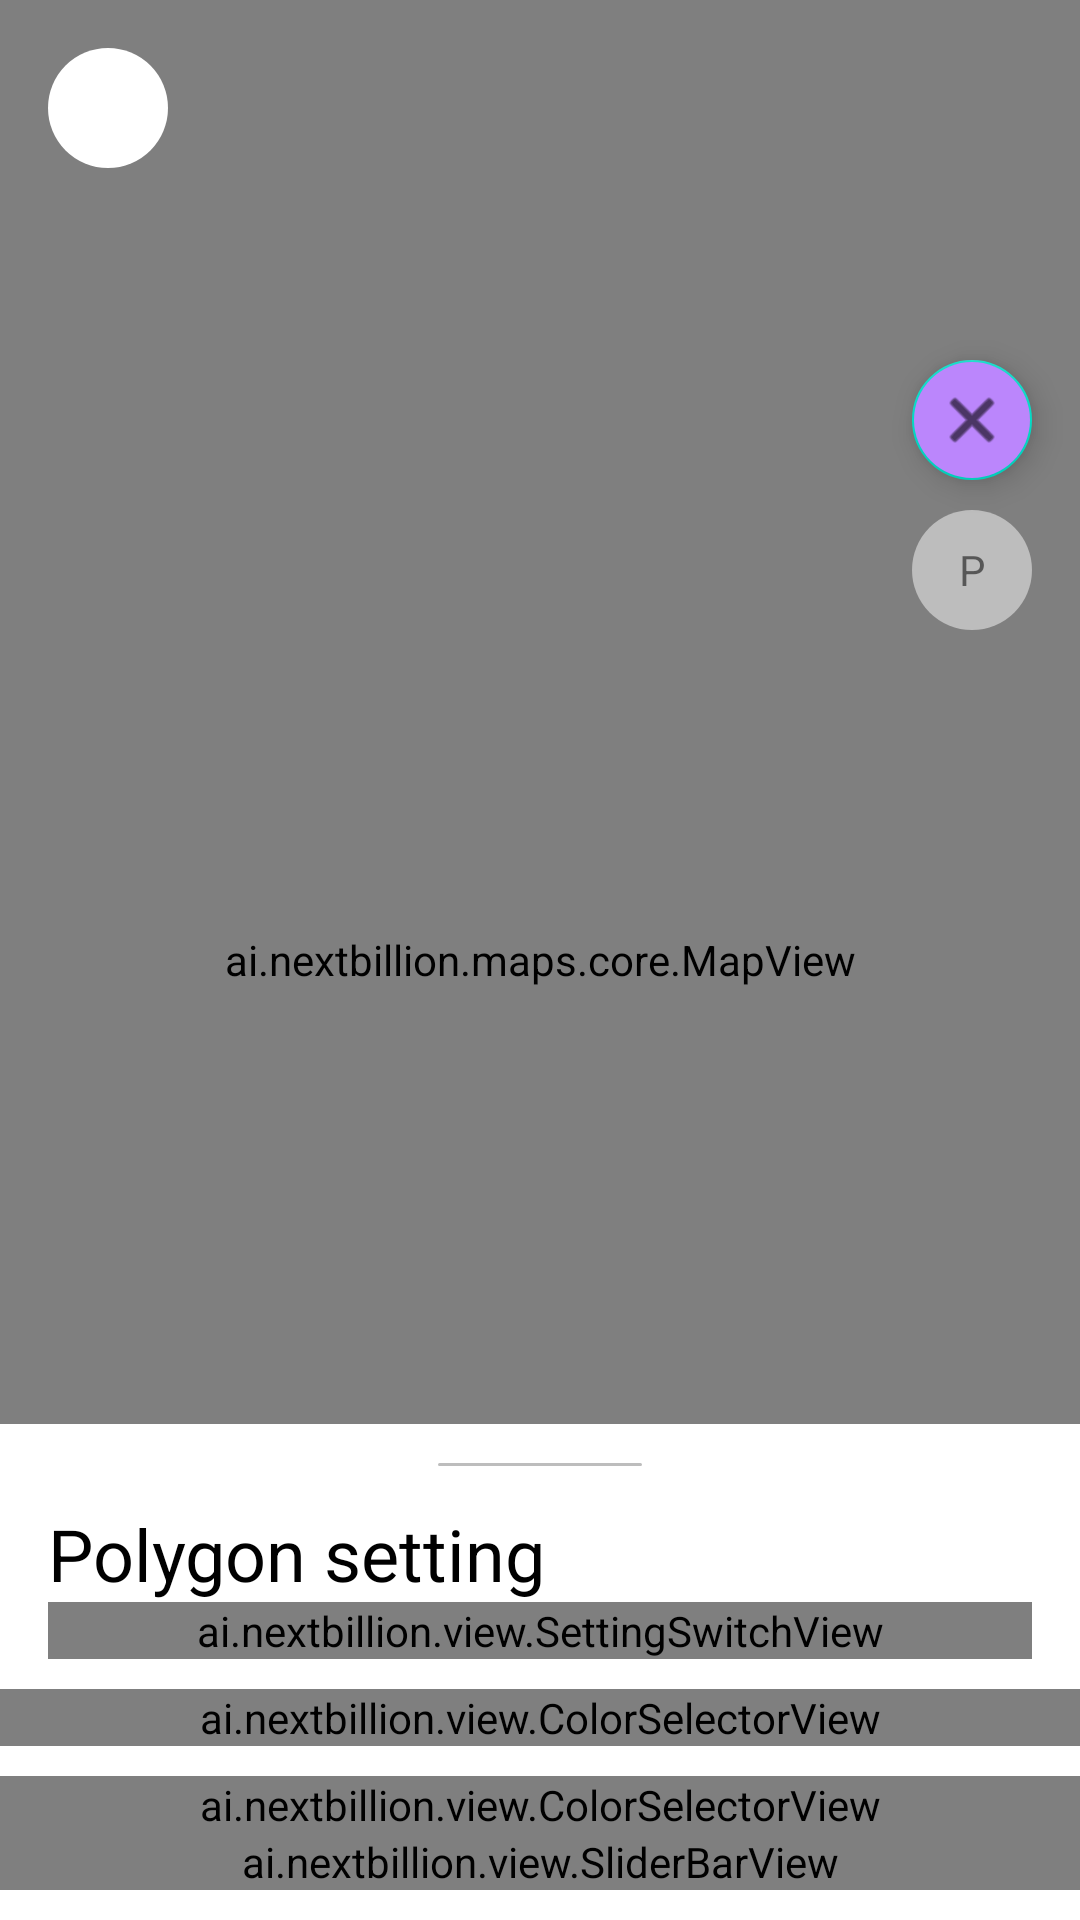

Point at icon controls on the screen. Image size 1080 x 1920, points as (x=x, y=y).
close clear cancel: (x=972, y=420)
